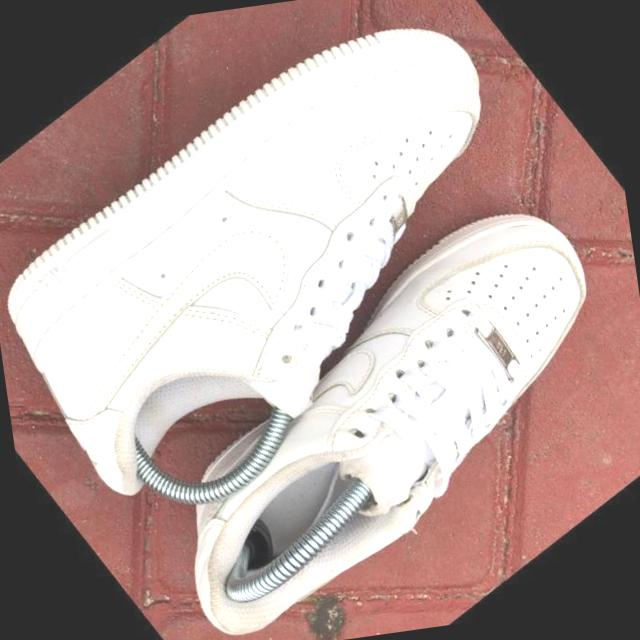nike_fake_airforce: (0, 0, 625, 552), (78, 162, 640, 640)
